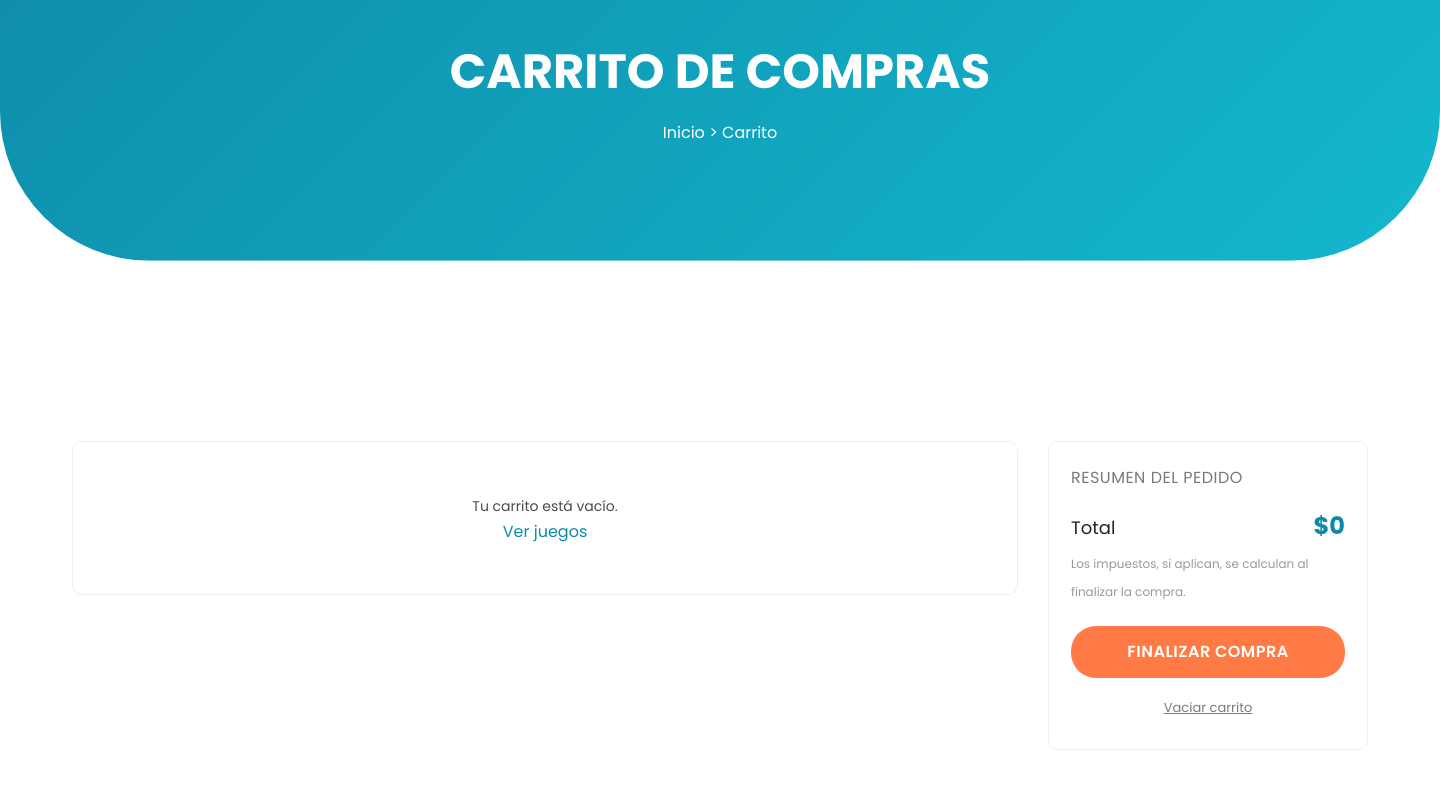
it: Página Carrito › Finalizar compra con el carrito vacío muestra error
This screenshot has width=1440, height=810.
(page scrolled)
Click the button "Finalizar compra" at (1208, 652), box [1071,626,1345,678]
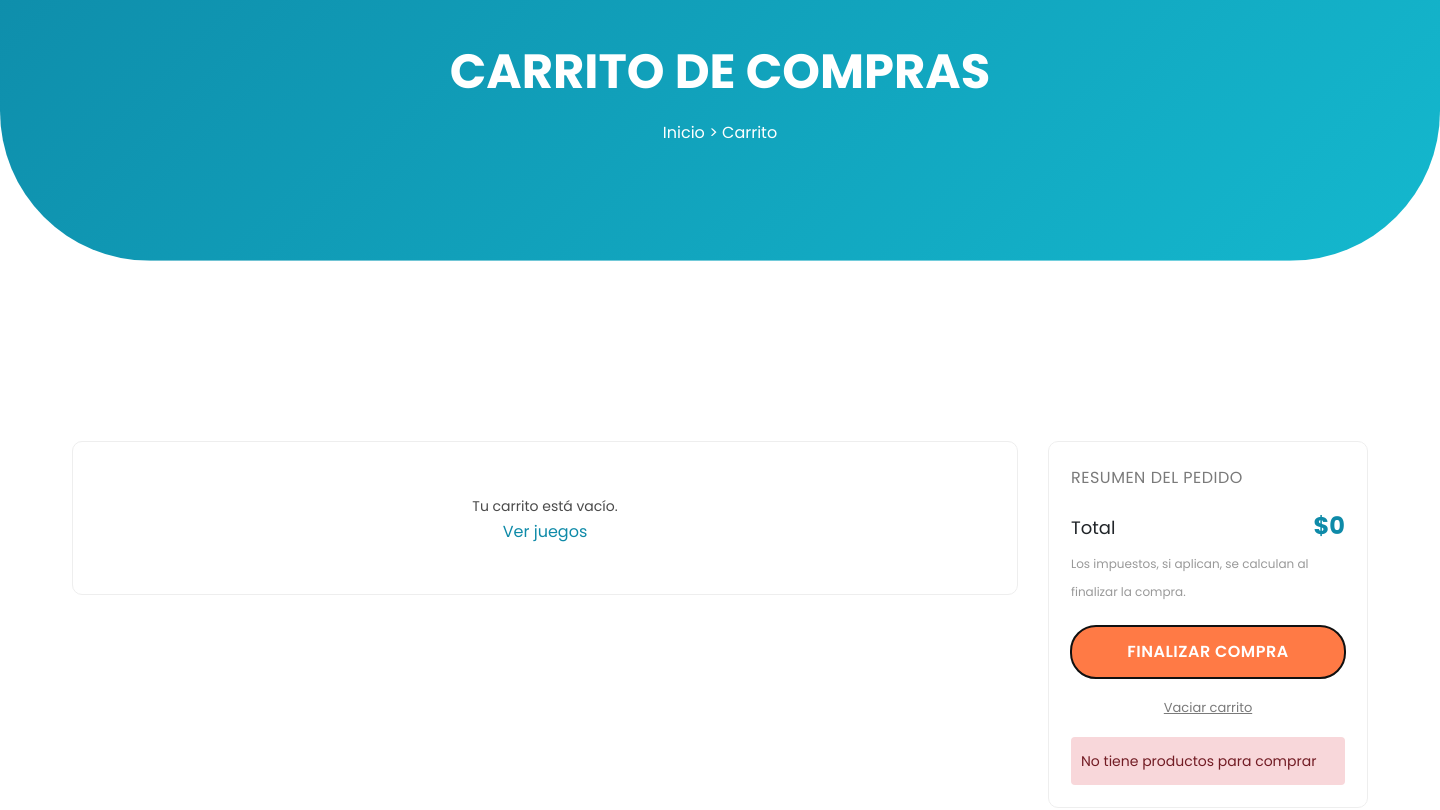
Check: the text "No tiene productos para comprar" is shown, box [1071,737,1345,785]
